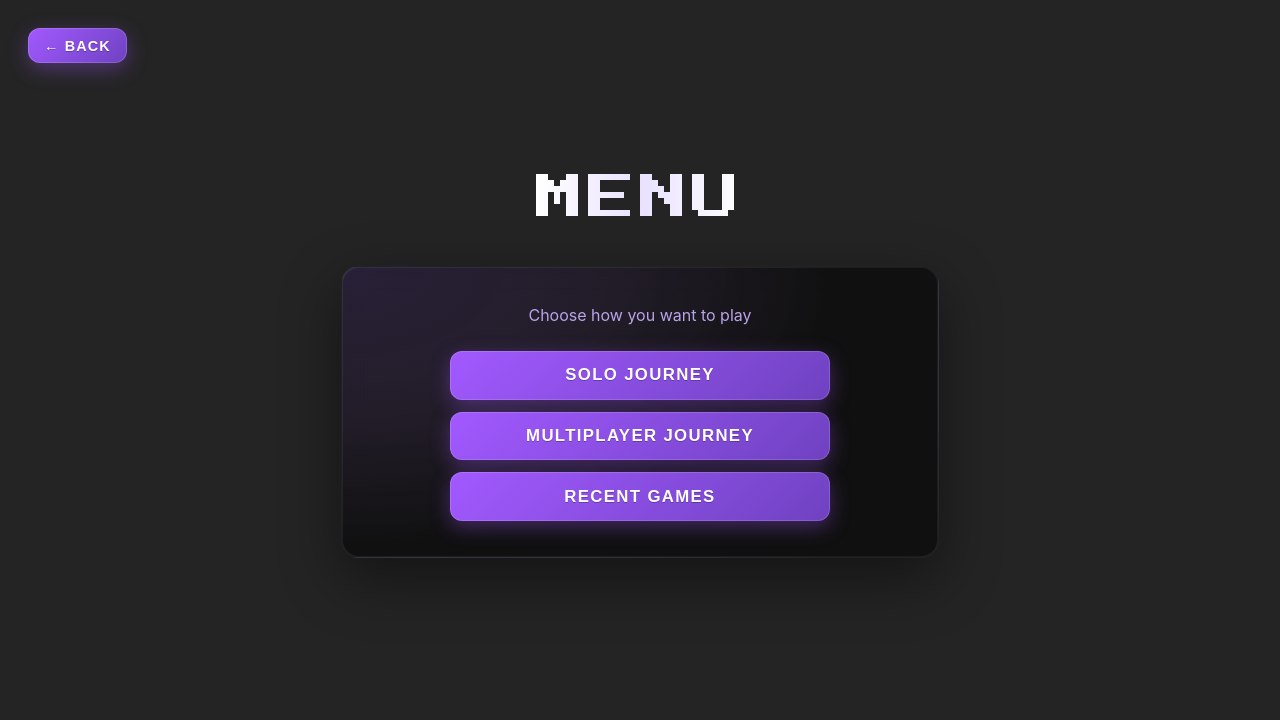
Test: ModeSelectPage › shows the main menu and toggles to solo selection
The image size is (1280, 720).
Check: the text "Choose how you want to play" is shown, box [528, 305, 752, 325]
Click the button with aria-label "choose a solo game mode" at (640, 375), box [450, 351, 830, 400]
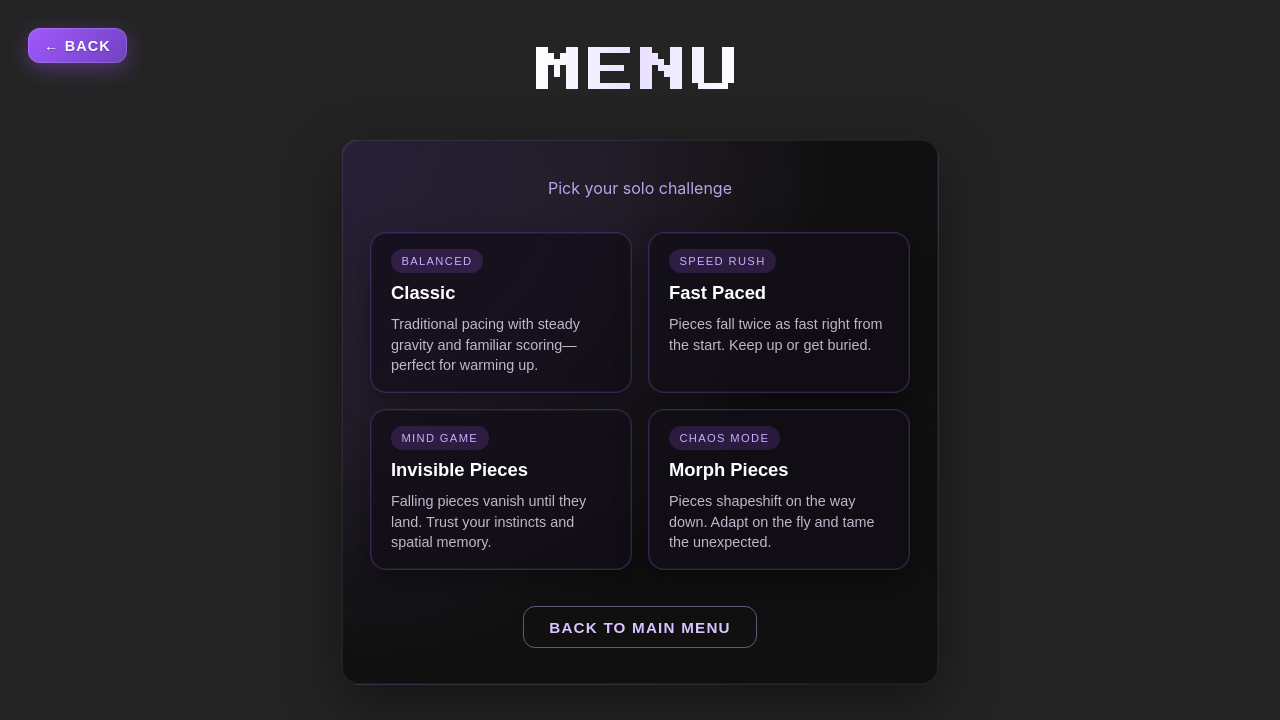
Check: the text "Pick your solo challenge" is shown, box [548, 178, 732, 198]
Check: the number of buttons named "start" is 4, box [370, 232, 632, 393]; [648, 232, 910, 393]; [370, 409, 632, 570]; [648, 409, 910, 570]
Click the button with aria-label "go back to the previous page" at (77, 46), box [28, 28, 127, 63]
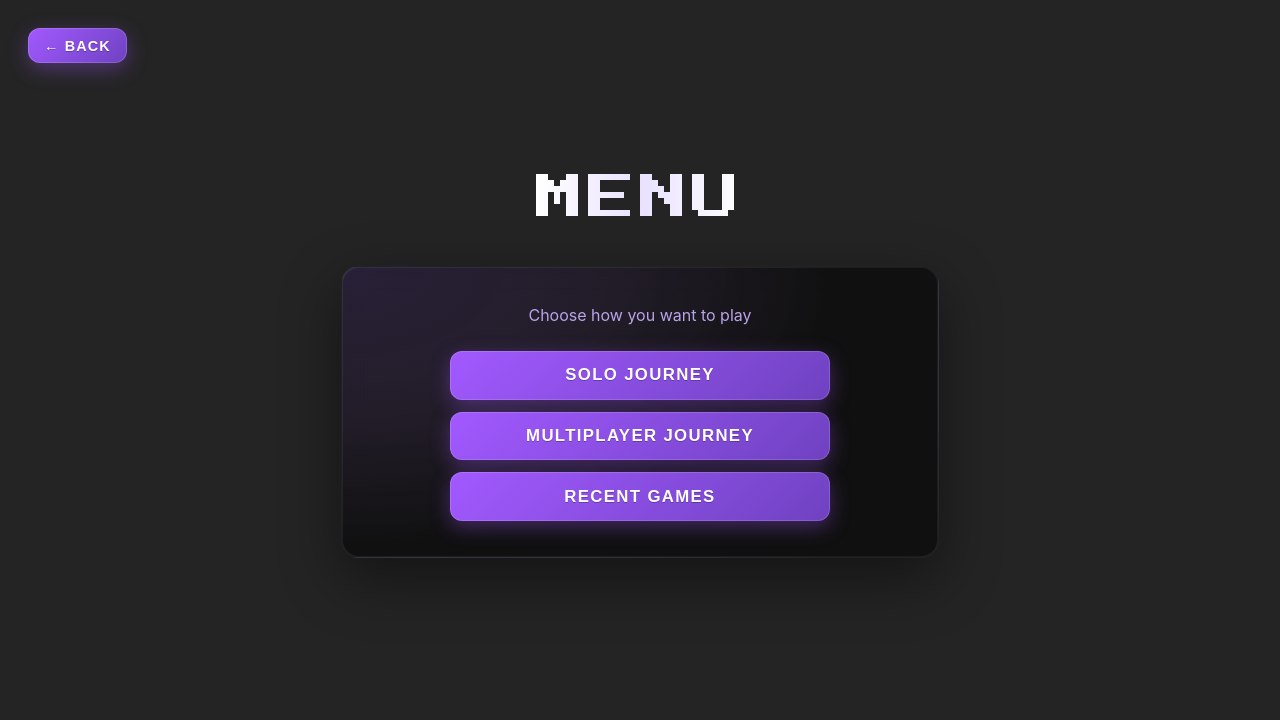
Check: the text "Choose how you want to play" is shown, box [528, 305, 752, 325]
